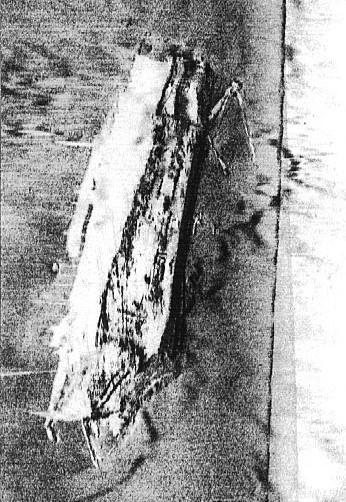ship: (42, 36, 210, 425)
